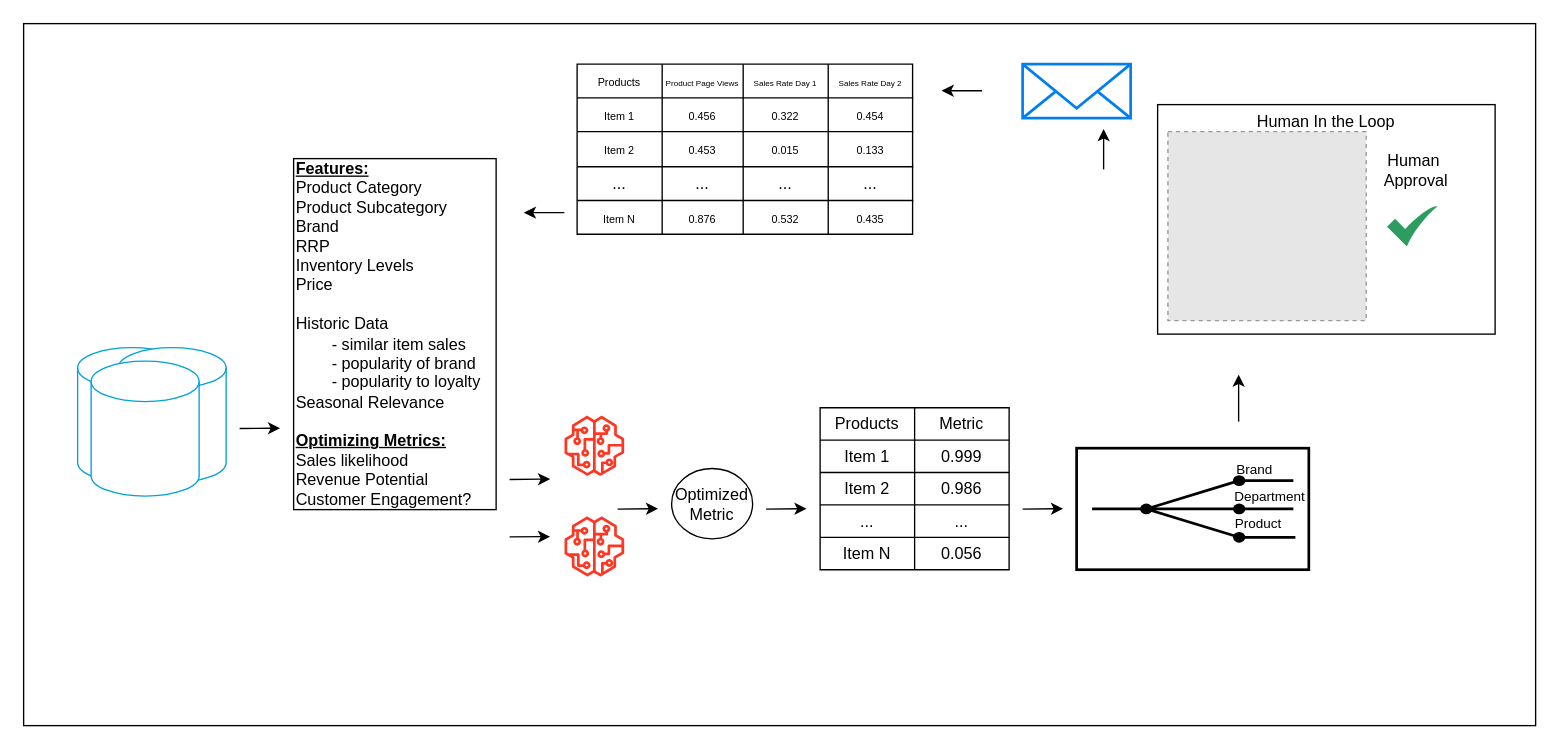
This 1559x749 diagram has some shape labels left out. Grey dashed boxes stand in for pictures. Each missing label, with the centre of its shape:
Revenue Model: point 593,445
Sales Model: point 593,545
